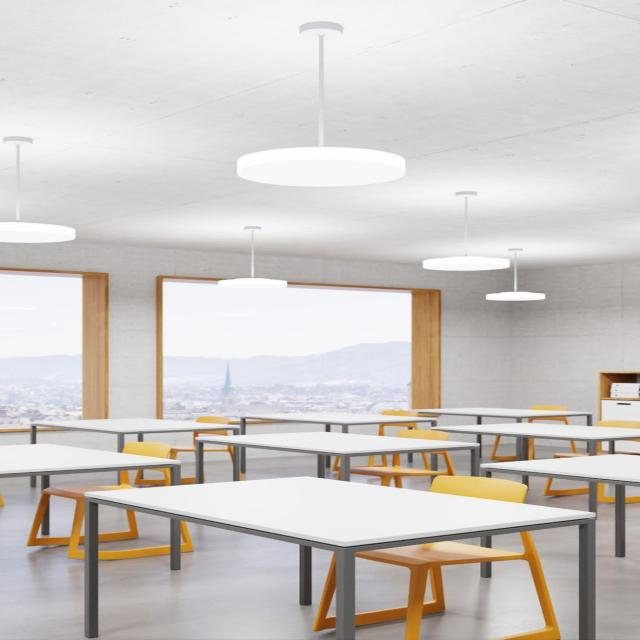obstacle: (80, 474, 597, 640), (312, 474, 561, 640), (25, 441, 194, 560), (478, 453, 639, 562), (195, 430, 480, 484), (27, 417, 239, 486), (332, 428, 456, 488), (167, 416, 243, 484), (490, 405, 578, 461)
